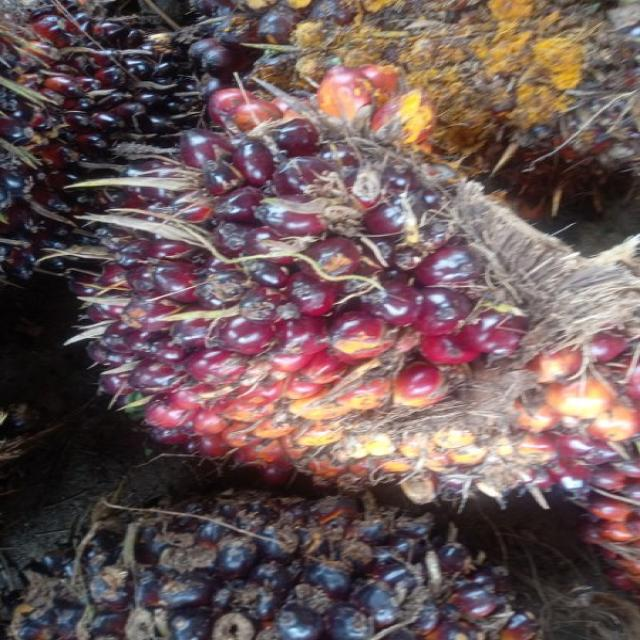fraksi 1: (80, 77, 622, 567)
